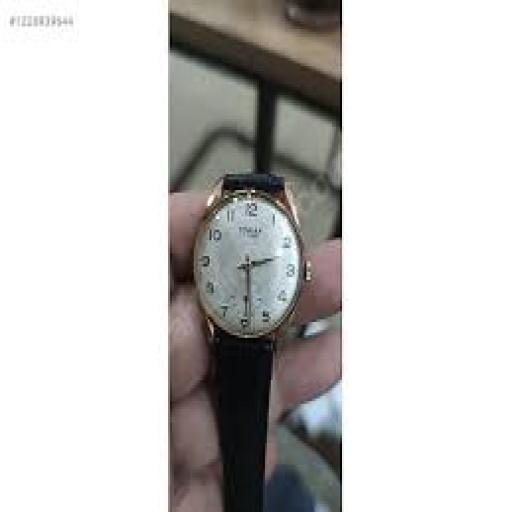KolSaati: (188, 149, 310, 512)
